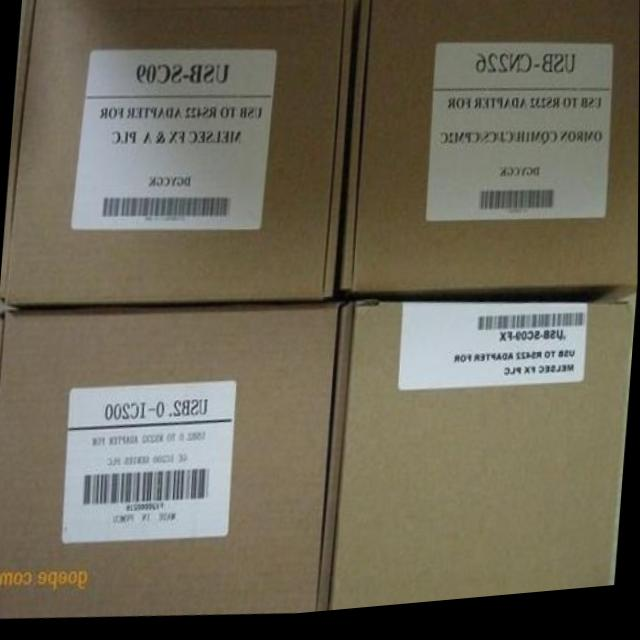box: (0, 0, 360, 311), (0, 306, 339, 617), (318, 305, 636, 617), (340, 0, 640, 313)
